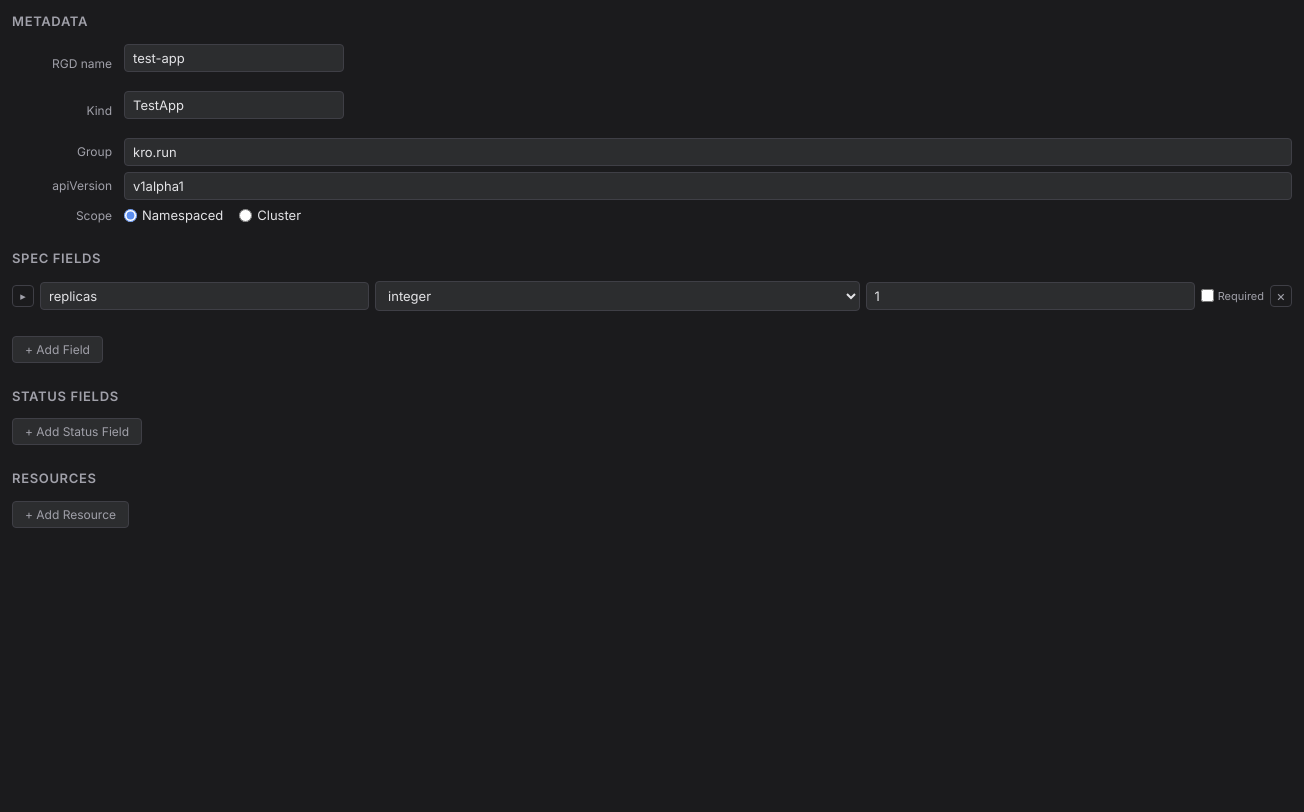
Test case: Spec field constraints (US8) › hides constraint inputs on second click (collapse)
Click the button with test id "field-expand-f1": click(23, 296) [12,285,34,307]
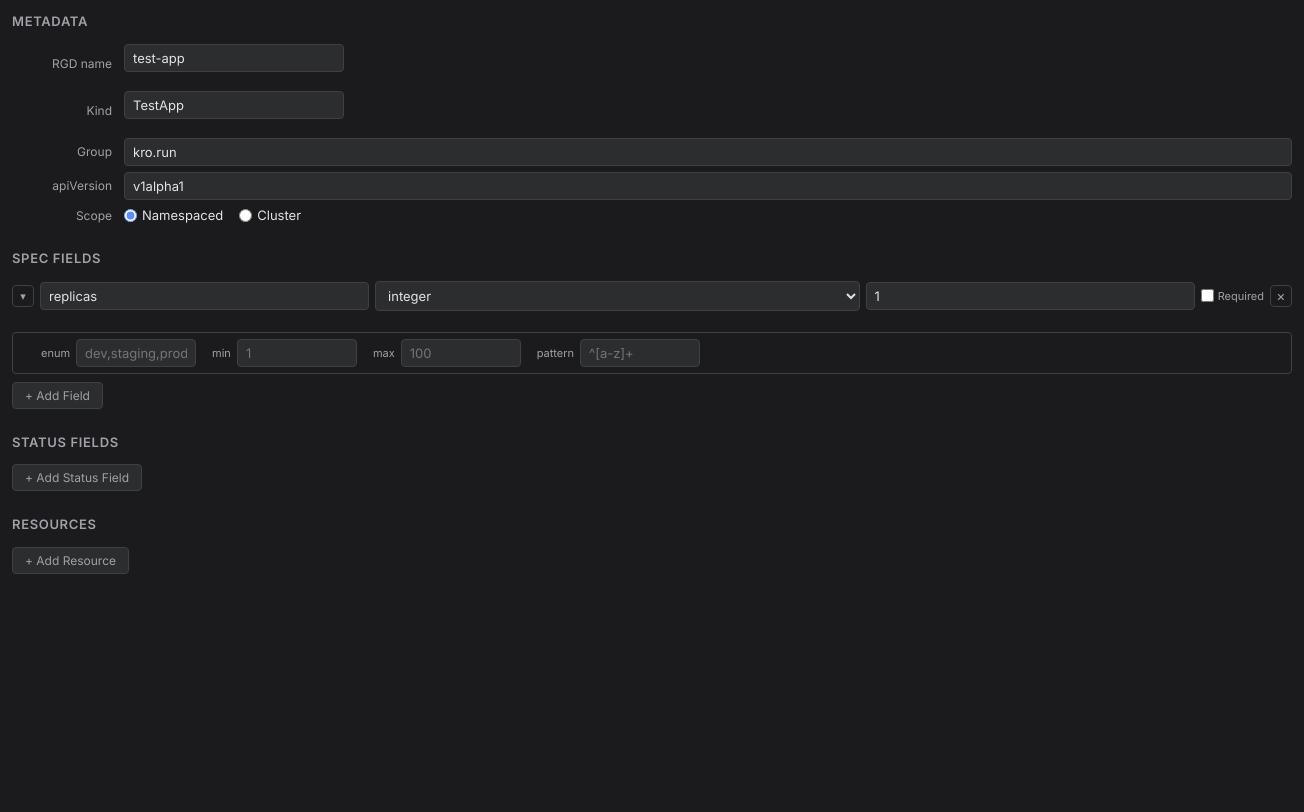
Click the button with test id "field-expand-f1": click(23, 296) [12,285,34,307]
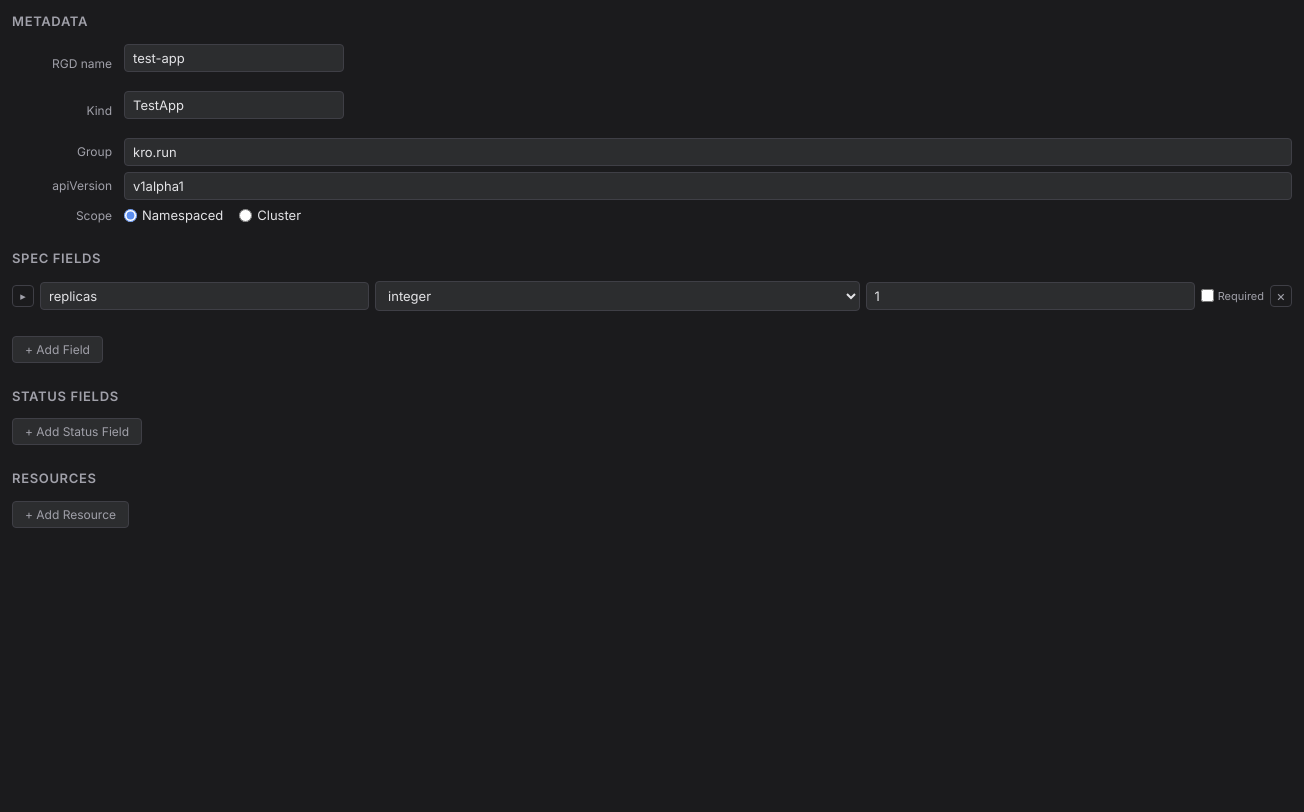
Expected: the number field with test id "field-min-f1" is gone
